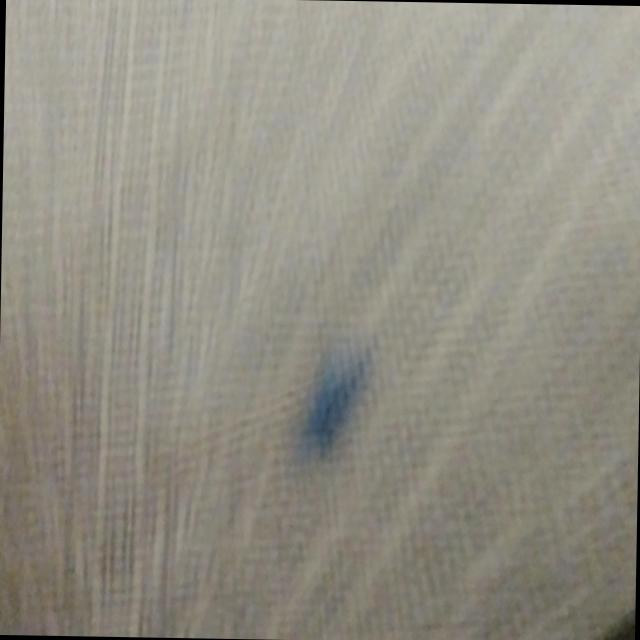blue_led: (294, 332, 376, 464)
